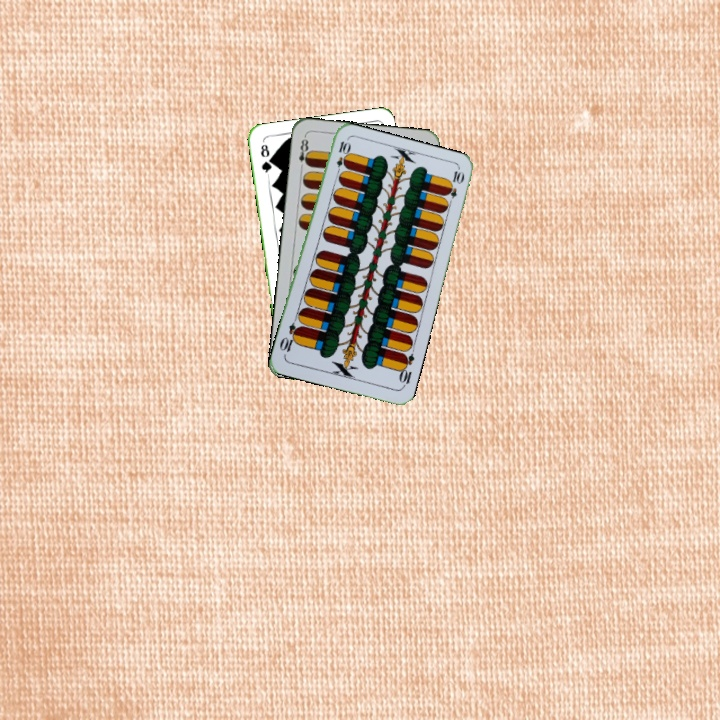E10: (395, 349, 417, 390), (332, 137, 351, 178)
E8: (294, 133, 313, 173)
G8: (256, 140, 274, 179)
